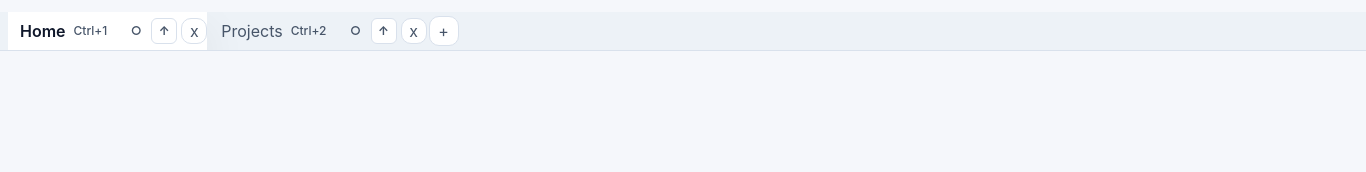
Test case: WorkspaceTabBar › clears armed state after deleteWorkspace returns false and requires re-arming
Expected: the button "Projects Ctrl+2" is shown, [209, 12, 338, 50]
Click the button named "Delete Projects" at (414, 31), box [400, 18, 426, 44]
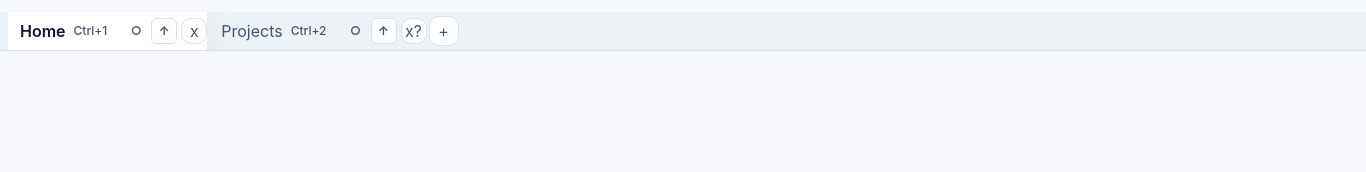
Click the button named "Confirm delete Projects" at (414, 31), box [400, 18, 426, 44]
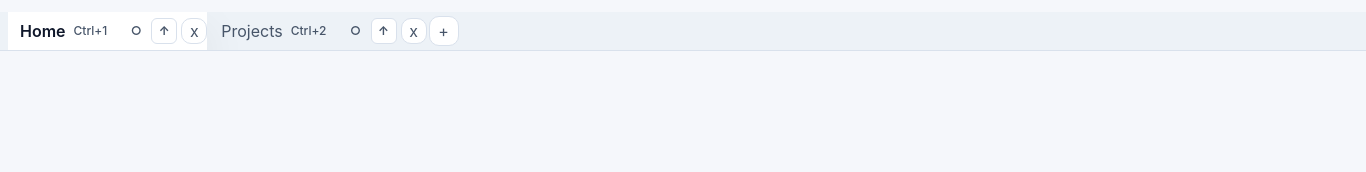
Expected: the button named "Delete Projects" reads "x"
Click the button named "Delete Projects" at (414, 31), box [400, 18, 426, 44]
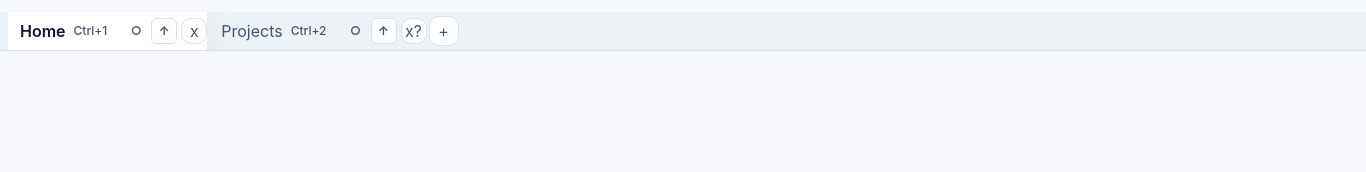
Expected: the button named "Confirm delete Projects" reads "x?", [400, 18, 426, 44]
